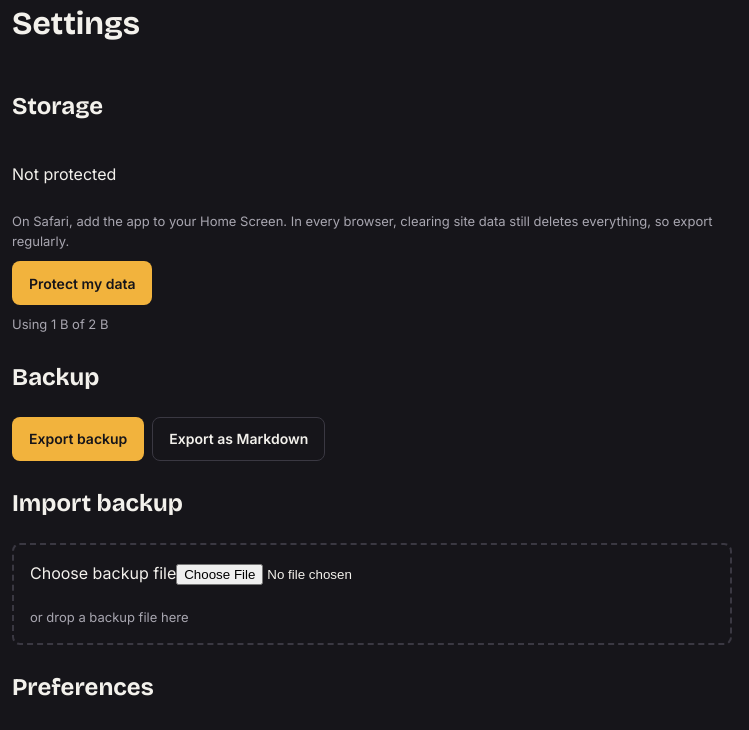
Test: SettingsPage protect button › granted: switches to protected
Click the button "Protect my data".
click(82, 283)  # box [12,261,152,305]
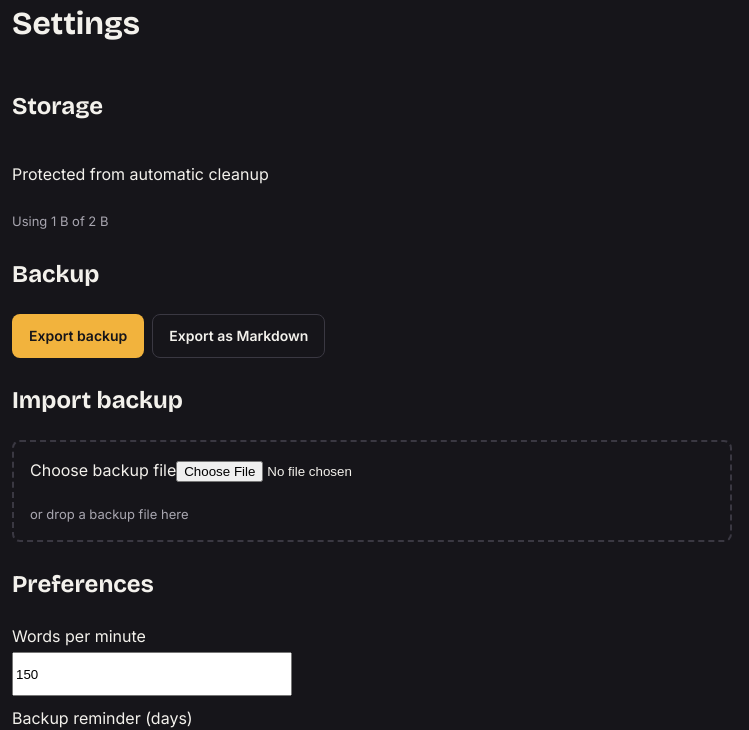
Now the text "Protected from automatic cleanup" is shown, box [12,164,269,184]
